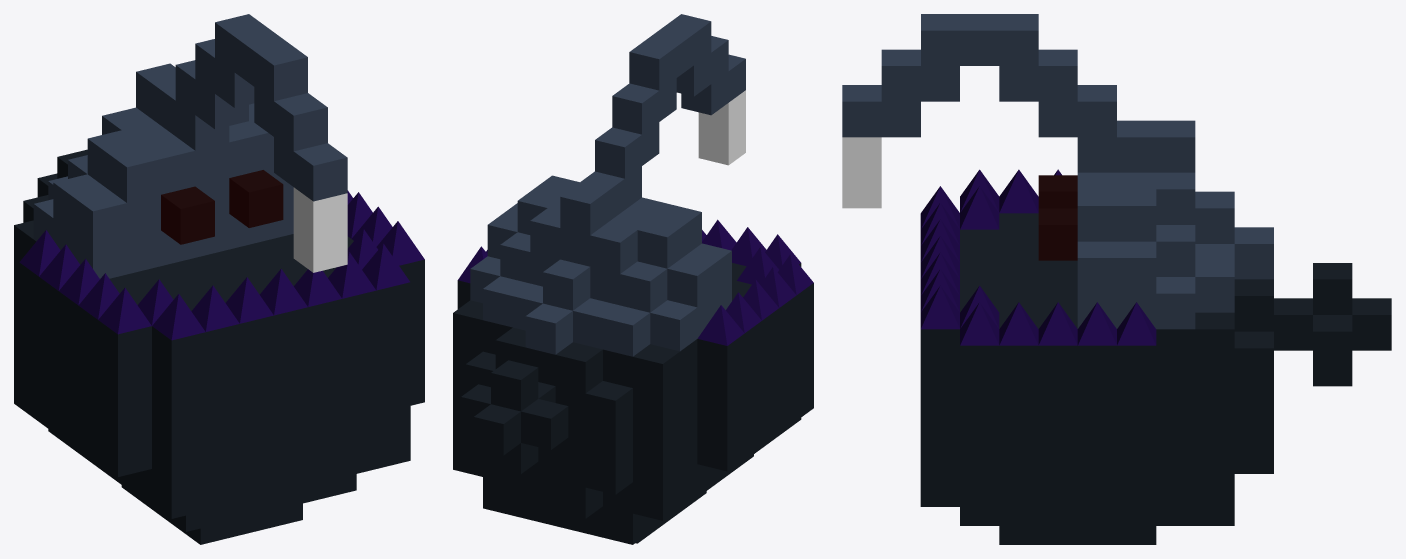
The model's file is npc-glowfish.glb.
3 renders of one model, left to right at view 1: azimuth 30°, elevation 25°; view 2: azimuth 150°, elevation 25°; view 3: azimuth 270°, elevation 25°, orthographic. The views are drawn at different scales.
Parts seen in each view (by area): view 1: Cube1305, Cube1305_1, Cube1305_4, Cube1305_2, Cube1305_3; view 2: Cube1305, Cube1305_1, Cube1305_4, Cube1305_3; view 3: Cube1305, Cube1305_1, Cube1305_4, Cube1305_2, Cube1305_3.
Part boxes in pixels (x1,y1,x2,y2): Cube1305: (14,149,424,544); Cube1305_1: (33,14,347,278); Cube1305_4: (19,190,424,340); Cube1305_2: (161,170,283,244); Cube1305_3: (293,187,347,272); Cube1305: (453,263,813,544); Cube1305_1: (470,14,745,356); Cube1305_4: (458,219,813,345); Cube1305_3: (698,90,745,165); Cube1305: (920,213,1391,544); Cube1305_1: (842,14,1273,329); Cube1305_4: (920,169,1156,345); Cube1305_2: (1038,175,1077,260); Cube1305_3: (842,137,881,208).
Bounding box in the file's own units: 18 × 28 × 28.
